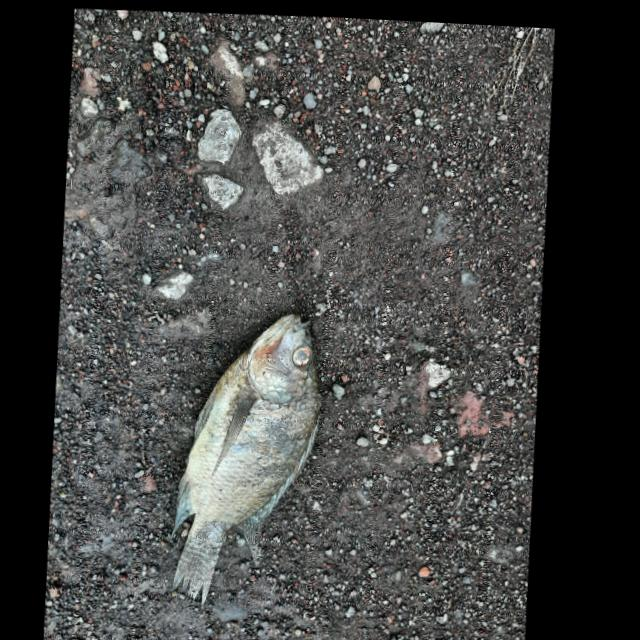Tilapia: (159, 313, 328, 602)
